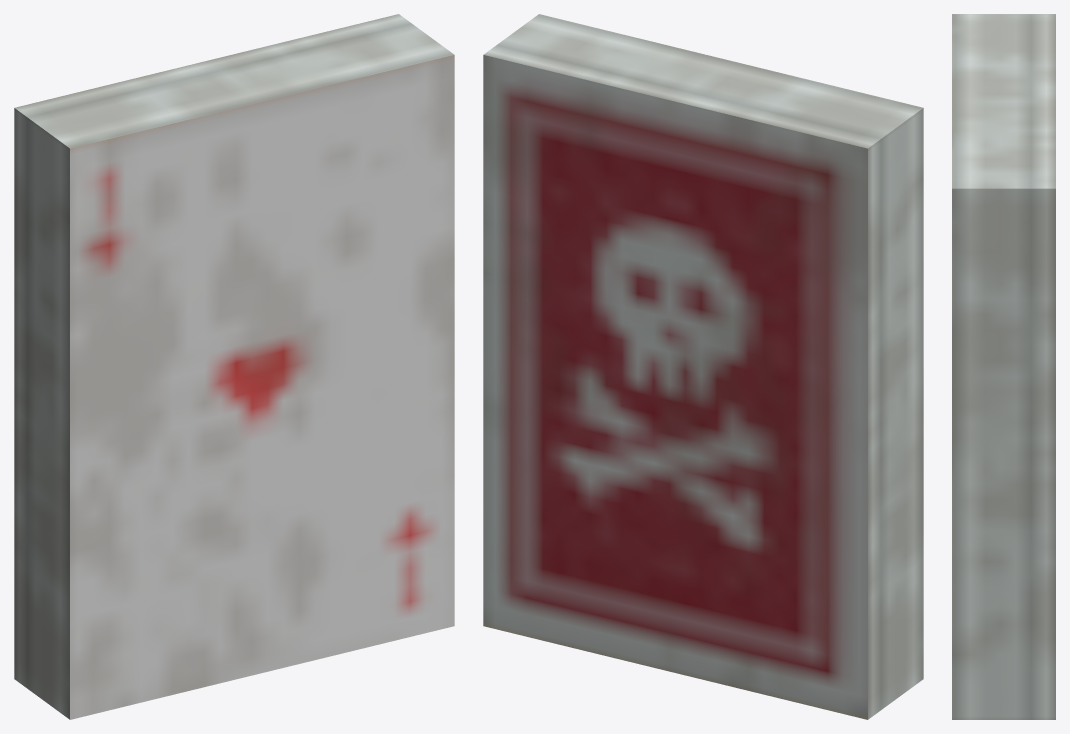
Rendered from Card_Pack_A.fbx.
The picture shows the model from 3 angles, left to right: view 1: azimuth 30°, elevation 25°; view 2: azimuth 150°, elevation 25°; view 3: azimuth 270°, elevation 25°; orthographic projection. The views are drawn at different scales.
Visible parts, largest first — view 1: Card_Pack_A; view 2: Card_Pack_A; view 3: Card_Pack_A.
Boxes of the visible parts, x1=… form: Card_Pack_A: x1=14, y1=14, x2=454, y2=719; Card_Pack_A: x1=483, y1=14, x2=923, y2=719; Card_Pack_A: x1=952, y1=14, x2=1055, y2=719.
Bounding box in the file's own units: 0.1848 × 0.2624 × 0.0464.
